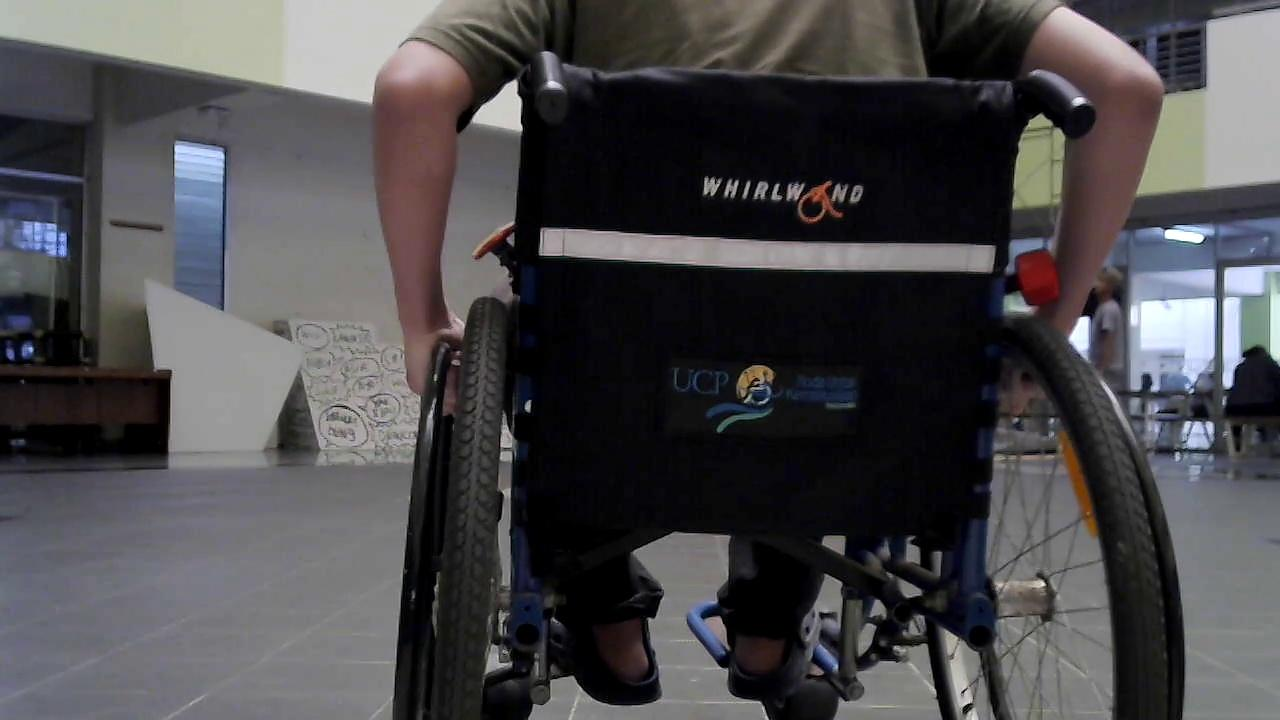person: (363, 0, 1166, 648), (1225, 344, 1280, 456)
wheelchair: (306, 41, 1199, 720)
